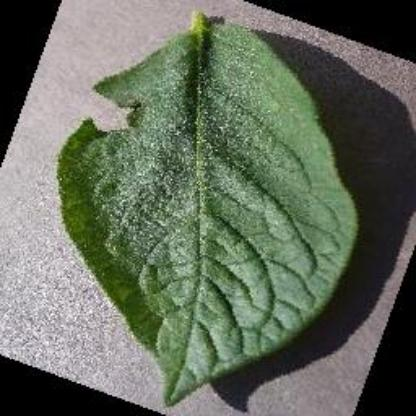Healthy-plant: (52, 11, 368, 406)
